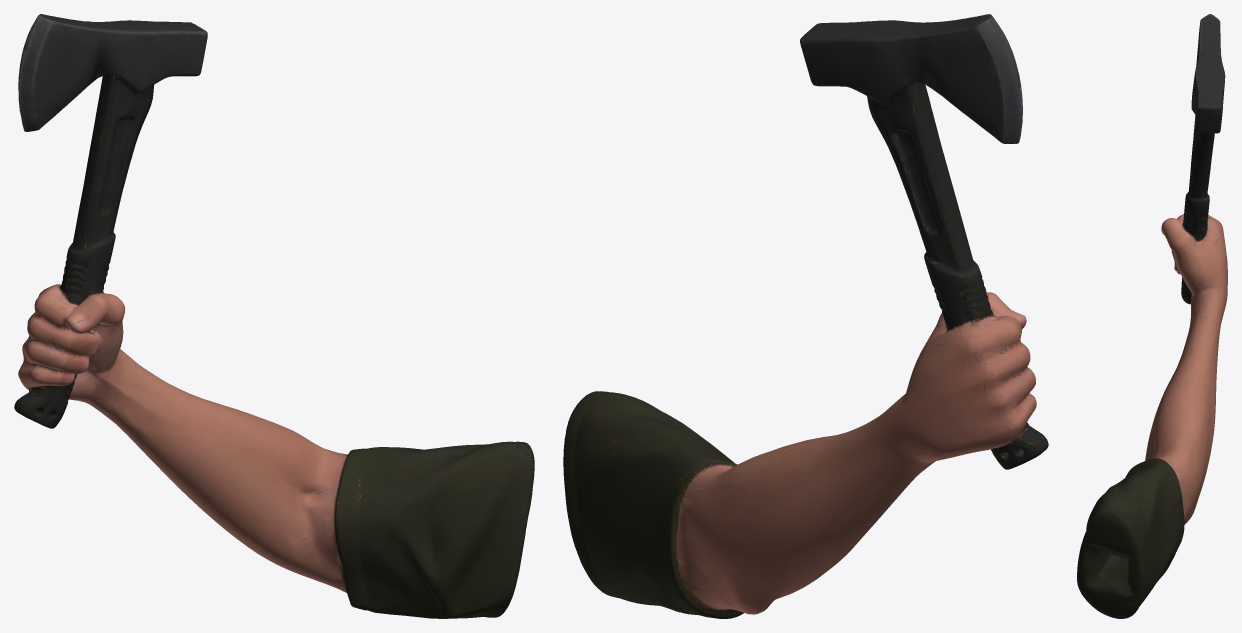
File: axe_fp.glb
3 renders of one model, left to right at view 1: azimuth 30°, elevation 25°; view 2: azimuth 150°, elevation 25°; view 3: azimuth 270°, elevation 25°, orthographic. The views are drawn at different scales.
Parts seen in each view (by area): view 1: Mesh_0; view 2: Mesh_0; view 3: Mesh_0.
Boxes of the visible parts, box(x1,y1,x2,y2) form: Mesh_0: box(14, 14, 534, 618); Mesh_0: box(563, 14, 1048, 618); Mesh_0: box(1077, 14, 1227, 618).
Size of the model in its own units: 1.43 by 1.91 by 0.559.
1 material, 1 textured.
